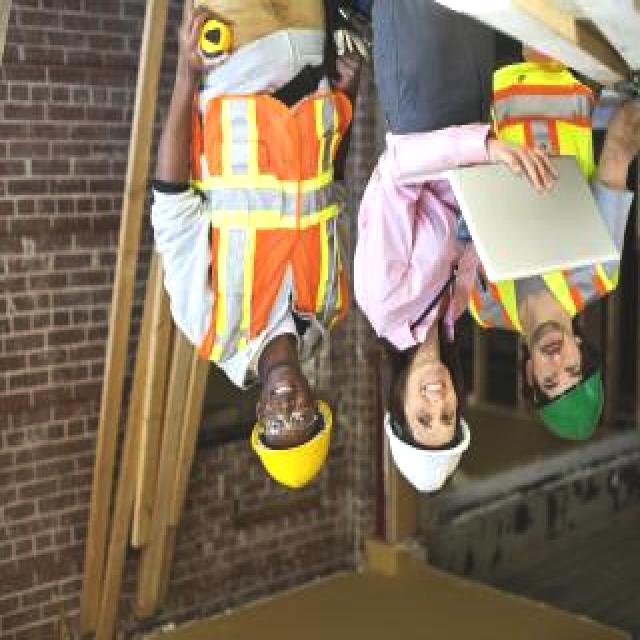Hard Hat: (380, 408, 478, 501), (244, 404, 337, 499), (522, 364, 618, 452)
Reflective Vest: (190, 83, 358, 369), (454, 55, 624, 332)
Safety Glasses: (252, 408, 333, 446)
